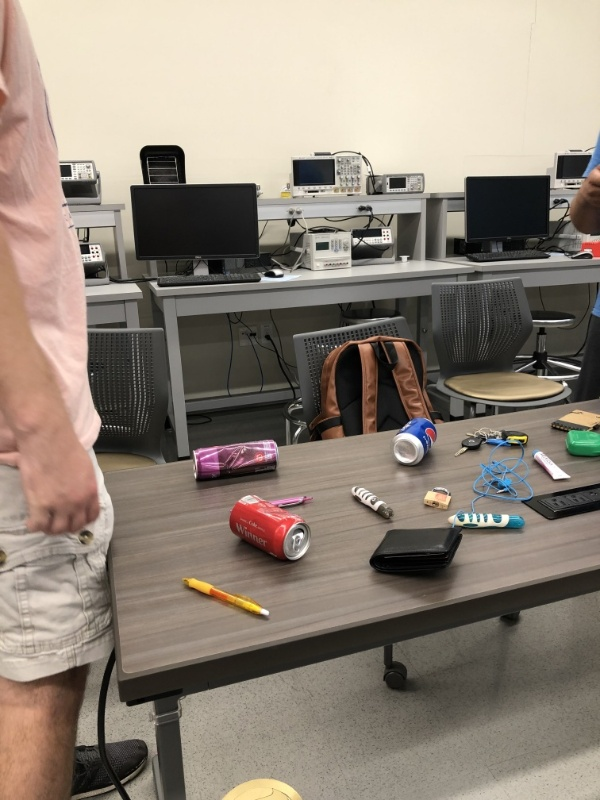can: (227, 492, 315, 568), (191, 434, 281, 486), (390, 414, 444, 467)
